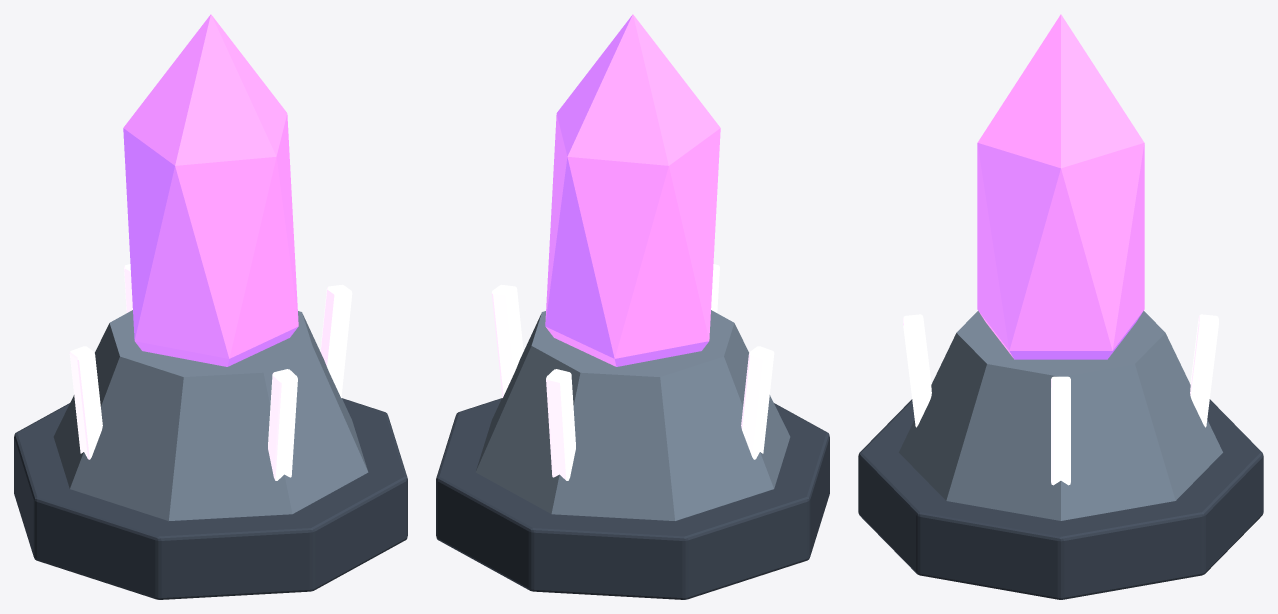
File: magicEmitter.glb
3 renders of one model, left to right at view 1: azimuth 30°, elevation 25°; view 2: azimuth 150°, elevation 25°; view 3: azimuth 270°, elevation 25°, orthographic.
Visible parts, largest first — view 1: MagicEmitter_Crystal, MagicEmitter_Platform, MagicEmitter_Foot, MagicEmitter_Rune.003, MagicEmitter_Rune.002, MagicEmitter_Rune; view 2: MagicEmitter_Crystal, MagicEmitter_Platform, MagicEmitter_Foot, MagicEmitter_Rune.001, MagicEmitter_Rune.002, MagicEmitter_Rune; view 3: MagicEmitter_Crystal, MagicEmitter_Platform, MagicEmitter_Foot, MagicEmitter_Rune, MagicEmitter_Rune.001, MagicEmitter_Rune.003.
Boxes of the visible parts, x1=… form: MagicEmitter_Crystal: x1=123, y1=14, x2=298, y2=366; MagicEmitter_Platform: x1=53, y1=310, x2=368, y2=520; MagicEmitter_Foot: x1=14, y1=398, x2=407, y2=599; MagicEmitter_Rune.003: x1=268, y1=369, x2=297, y2=480; MagicEmitter_Rune.002: x1=69, y1=346, x2=102, y2=459; MagicEmitter_Rune: x1=320, y1=284, x2=352, y2=397; MagicEmitter_Crystal: x1=545, y1=14, x2=720, y2=366; MagicEmitter_Platform: x1=475, y1=310, x2=790, y2=520; MagicEmitter_Foot: x1=436, y1=398, x2=829, y2=599; MagicEmitter_Rune.001: x1=546, y1=369, x2=575, y2=480; MagicEmitter_Rune.002: x1=741, y1=346, x2=774, y2=459; MagicEmitter_Rune: x1=491, y1=284, x2=523, y2=397; MagicEmitter_Crystal: x1=977, y1=14, x2=1144, y2=359; MagicEmitter_Platform: x1=899, y1=311, x2=1222, y2=520; MagicEmitter_Foot: x1=858, y1=399, x2=1263, y2=599; MagicEmitter_Rune: x1=1051, y1=376, x2=1070, y2=485; MagicEmitter_Rune.001: x1=1190, y1=314, x2=1218, y2=427; MagicEmitter_Rune.003: x1=903, y1=314, x2=931, y2=427.
Bounding box in the file's own units: 1.39 × 1.91 × 1.39.
